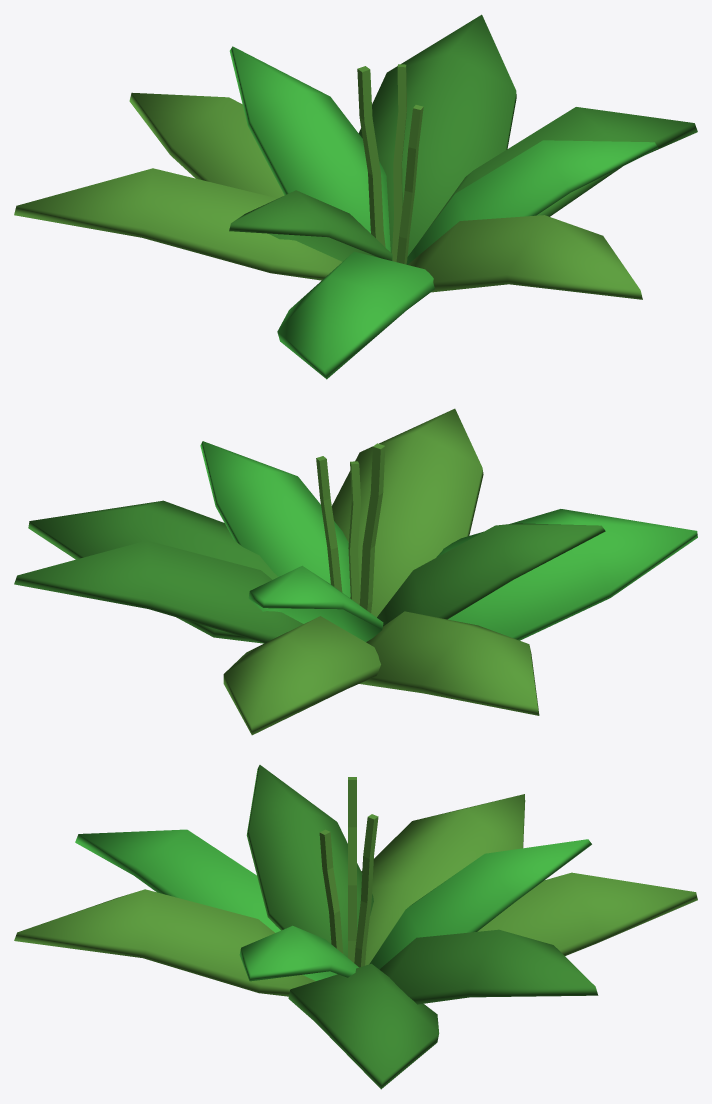
The model's file is Leaf_Plant_Green_1.fbx.
3 renders of one model, top to bottom at view 1: azimuth 30°, elevation 25°; view 2: azimuth 150°, elevation 25°; view 3: azimuth 270°, elevation 25°, orthographic. The views are drawn at different scales.
Parts seen in each view (by area): view 1: Plane.067, Plane.069, Plane.066, Plane.068, Plane.070, Plane.065, Plane.078, Plane.071, Plane.064, Cube.048, Cube.058, Cube.056; view 2: Plane.068, Plane.067, Plane.070, Plane.069, Plane.065, Plane.078, Plane.064, Plane.071, Plane.066, Cube.048, Cube.056, Cube.058; view 3: Plane.068, Plane.064, Plane.067, Plane.069, Plane.071, Plane.078, Plane.066, Plane.070, Plane.065, Cube.056, Cube.048, Cube.058.
Part boxes in pixels (box(x1,y1,x2,y2)): Plane.067: box(358, 14, 516, 256); Plane.069: box(14, 168, 341, 280); Plane.066: box(229, 46, 390, 251); Plane.068: box(408, 215, 642, 299); Plane.070: box(277, 251, 434, 379); Plane.065: box(406, 140, 658, 264); Plane.078: box(129, 92, 284, 198); Plane.071: box(419, 107, 697, 240); Plane.064: box(229, 190, 392, 261); Cube.048: box(357, 66, 385, 247); Cube.058: box(396, 105, 423, 264); Cube.056: box(392, 64, 406, 261); Plane.068: box(332, 408, 483, 617); Plane.067: box(14, 540, 303, 643); Plane.070: box(436, 509, 697, 640); Plane.069: box(359, 611, 539, 715); Plane.065: box(200, 441, 350, 597); Plane.078: box(223, 616, 380, 735); Plane.064: box(377, 523, 605, 626); Plane.071: box(28, 500, 278, 643); Plane.066: box(248, 565, 383, 641); Cube.048: box(359, 443, 385, 612); Cube.056: box(316, 456, 342, 592); Cube.058: box(348, 461, 360, 604); Plane.068: box(14, 889, 315, 996); Plane.064: box(246, 765, 373, 957); Plane.067: box(379, 929, 598, 1004); Plane.069: box(361, 794, 525, 965); Plane.071: box(288, 963, 439, 1089); Plane.078: box(477, 872, 697, 955); Plane.066: box(369, 839, 591, 969); Plane.070: box(75, 829, 280, 932); Plane.065: box(239, 925, 358, 981); Cube.056: box(354, 814, 378, 967); Cube.048: box(348, 777, 356, 962); Cube.058: box(319, 829, 343, 953).
Size of the model in its own units: 171 by 60.93 by 177.
